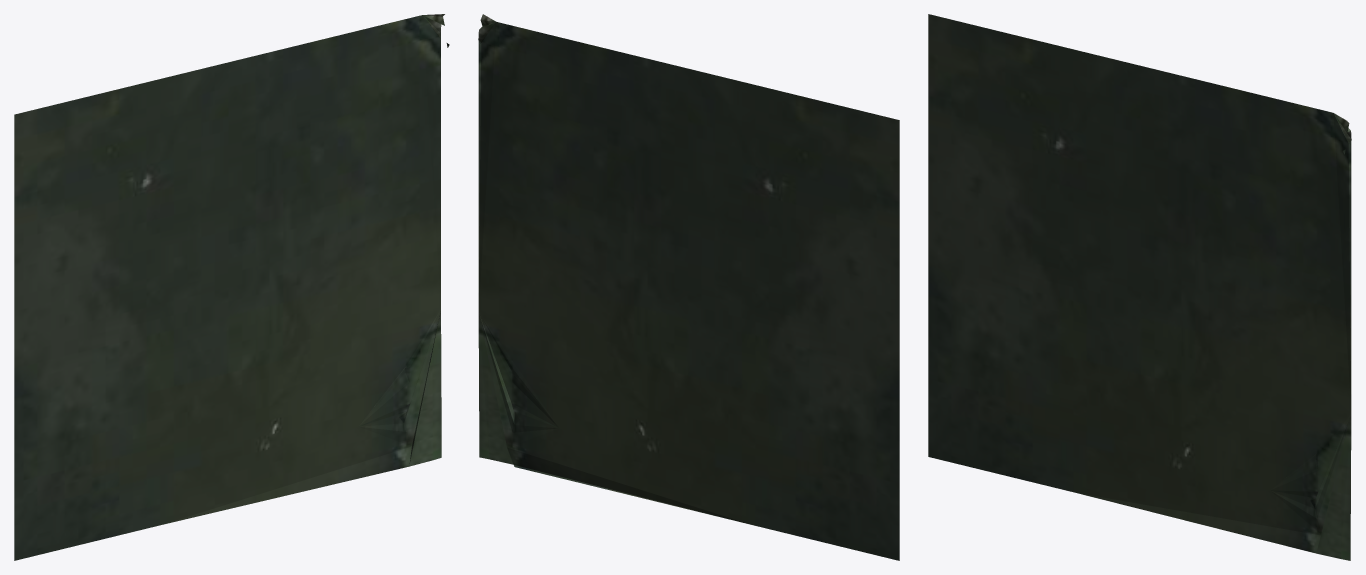
The model's file is Tile_+032_+025_L16_000.glb.
The picture shows the model from 3 angles, left to right: view 1: azimuth 30°, elevation 25°; view 2: azimuth 150°, elevation 25°; view 3: azimuth 330°, elevation 25°; orthographic projection.
Bounding box in the file's own units: 250 × 250 × 9.24.
Materials: 1 (1 with a texture image).
